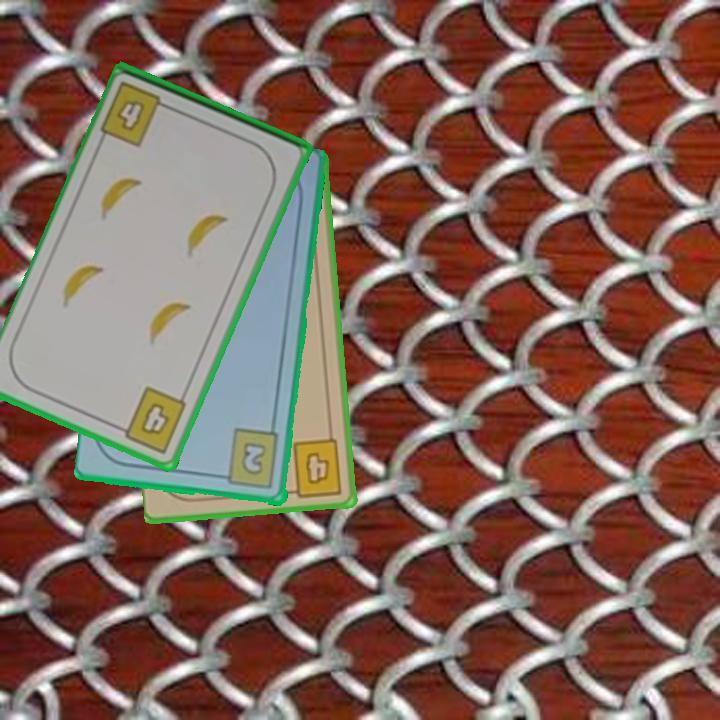2b: (215, 426, 282, 492)
4b: (112, 383, 190, 457), (97, 78, 177, 150), (283, 435, 345, 500)
